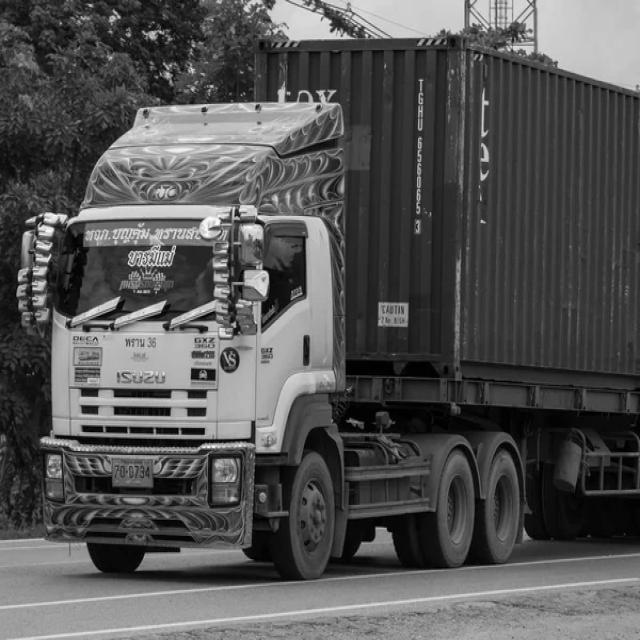Truck: (17, 40, 640, 580)
